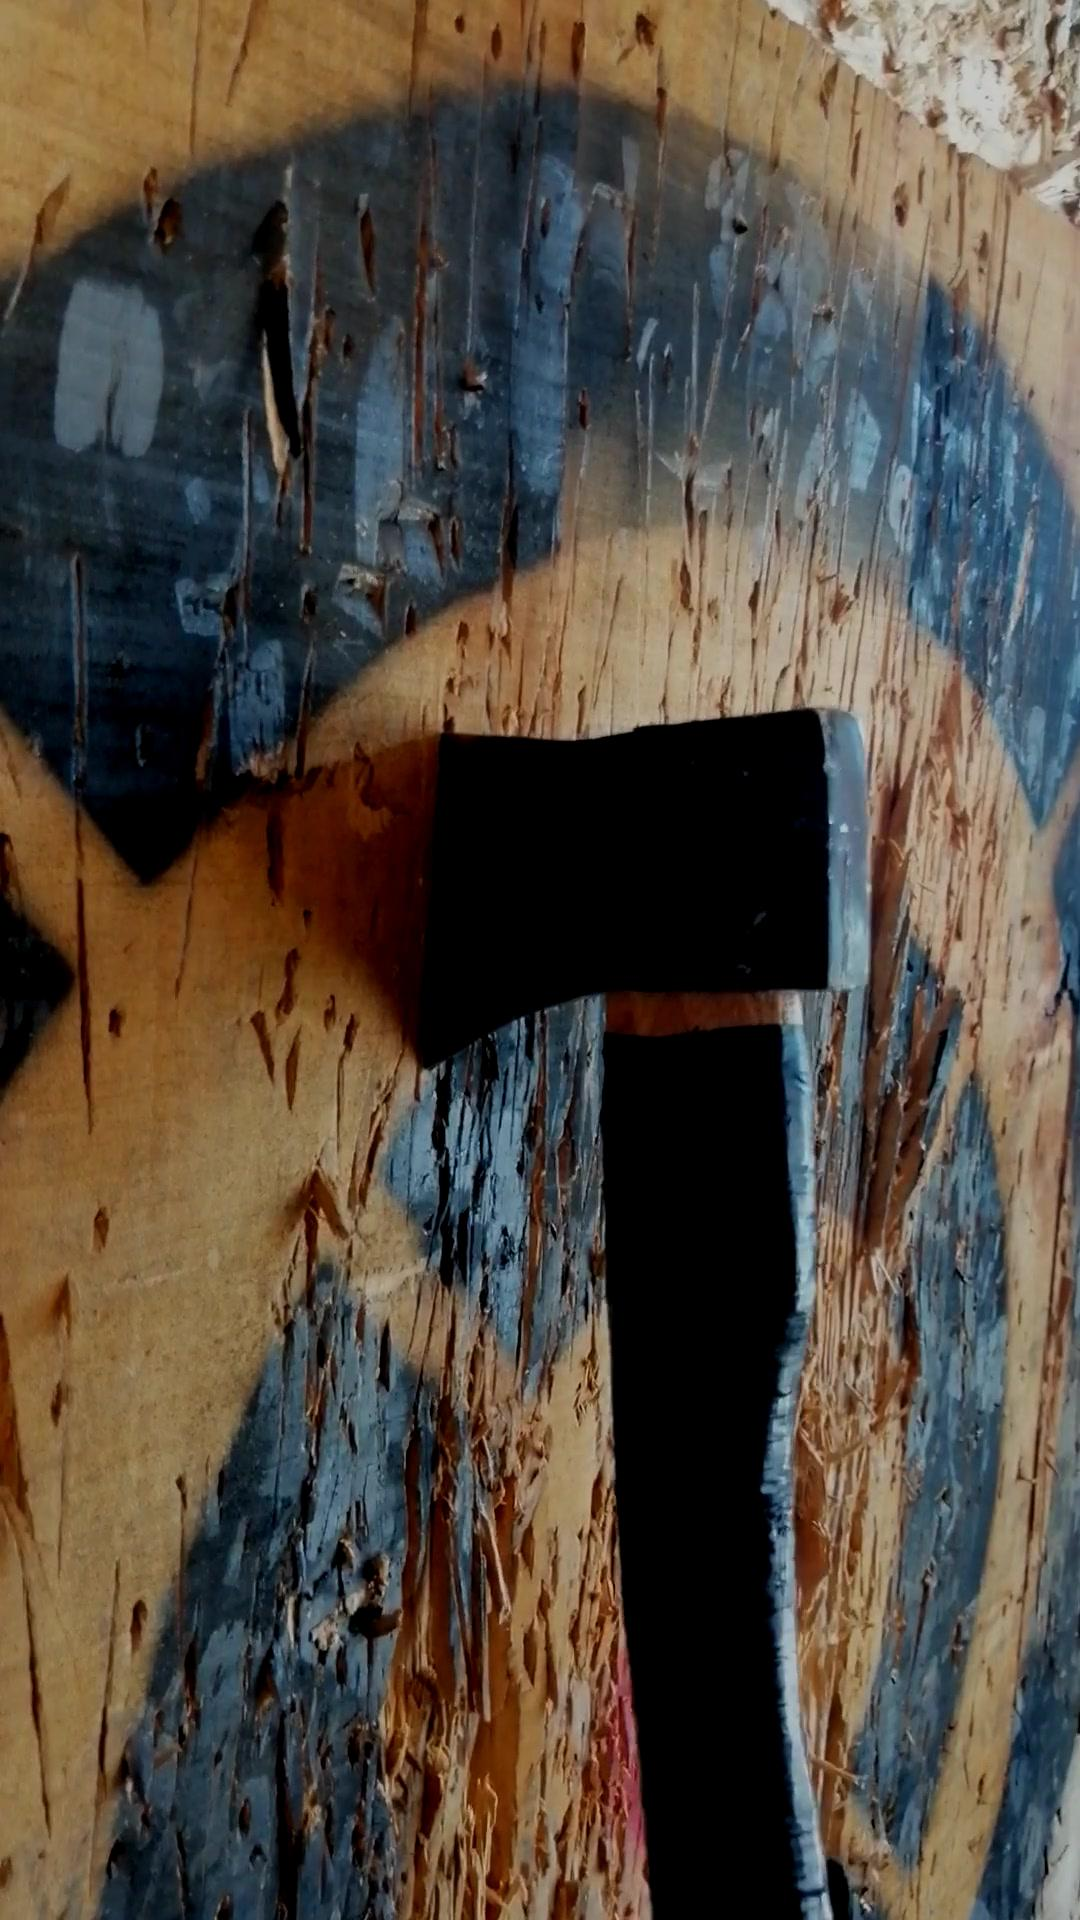Hand Axe: (418, 708, 866, 1068)
